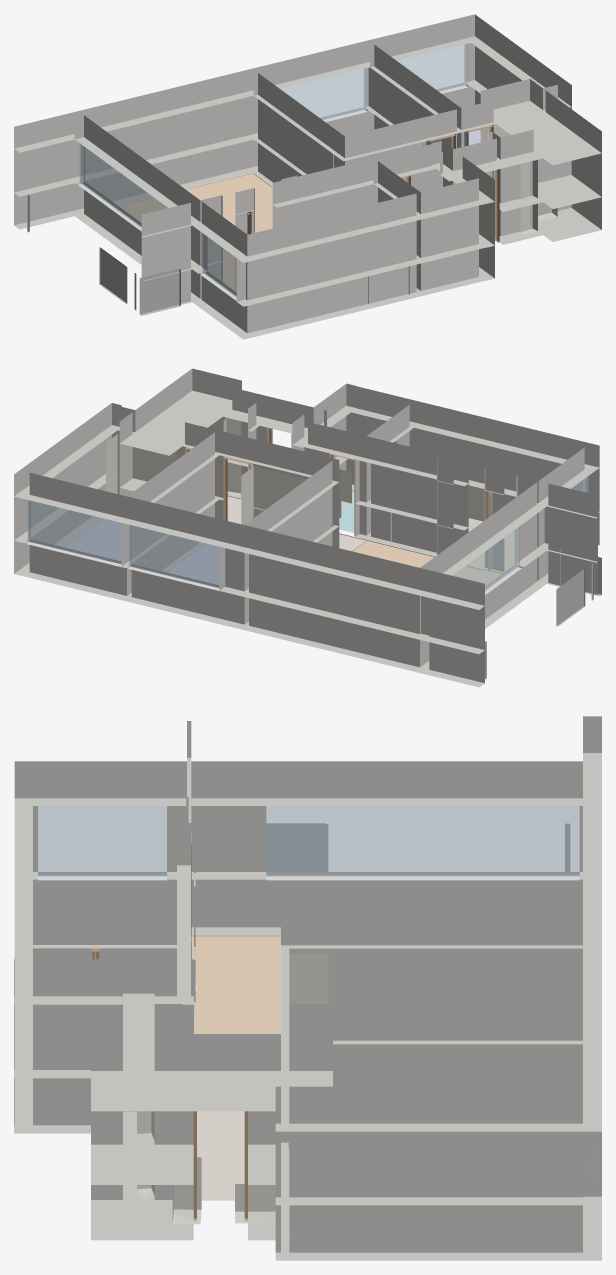
3 views of the same model, one above another, from view 1: azimuth 30°, elevation 25°; view 2: azimuth 150°, elevation 25°; view 3: azimuth 270°, elevation 25° (orthographic). The views are drawn at different scales.
Parts seen in each view (by area): view 1: walls, floor_0_Living_Room, railings, window_2, window_4, window_8, window_0, furniture_2_closet, sill_2; view 2: walls, window_8, window_4, furniture_0_closet, window_2, furniture_1_closet, floor_0_Living_Room, railings, floor_4_Bed_Room, floor_3_Bed_Room, furniture_2_closet, floor_1_Entry (+5 smaller); view 3: walls, window_2, window_0, floor_0_Living_Room, floor_1_Entry, railings, sill_2, furniture_0_closet, furniture_7_toilet, furniture_8_sink, sill_0, door_3.
Boxes of the visible parts, <box> form: walls: <box>14,14,601,339</box>; floor_0_Living_Room: <box>119,173,272,290</box>; railings: <box>27,194,180,315</box>; window_2: <box>79,139,167,227</box>; window_4: <box>279,68,366,119</box>; window_8: <box>395,42,467,91</box>; window_0: <box>202,229,241,299</box>; furniture_2_closet: <box>520,160,537,234</box>; sill_2: <box>77,182,141,231</box>; walls: <box>14,368,599,687</box>; window_8: <box>27,500,121,564</box>; window_4: <box>129,525,222,587</box>; furniture_0_closet: <box>241,467,333,546</box>; window_2: <box>425,522,519,610</box>; furniture_1_closet: <box>106,434,176,494</box>; floor_0_Living_Room: <box>352,540,502,585</box>; railings: <box>485,549,601,679</box>; floor_4_Bed_Room: <box>64,518,120,560</box>; floor_3_Bed_Room: <box>166,543,218,584</box>; furniture_2_closet: <box>223,417,241,496</box>; floor_1_Entry: <box>227,495,366,551</box>; walls: <box>14,716,601,1260</box>; window_2: <box>266,806,579,876</box>; window_0: <box>38,806,166,876</box>; floor_0_Living_Room: <box>191,935,280,1033</box>; floor_1_Entry: <box>197,1111,244,1200</box>; railings: <box>266,823,569,871</box>; sill_2: <box>266,874,579,880</box>; furniture_0_closet: <box>289,954,328,1003</box>; furniture_7_toilet: <box>235,1184,275,1223</box>; furniture_8_sink: <box>172,1157,201,1224</box>; sill_0: <box>38,874,166,880</box>; door_3: <box>193,1111,247,1221</box>.
Size of the model in its own units: 13.21 by 2.72 by 8.67.
